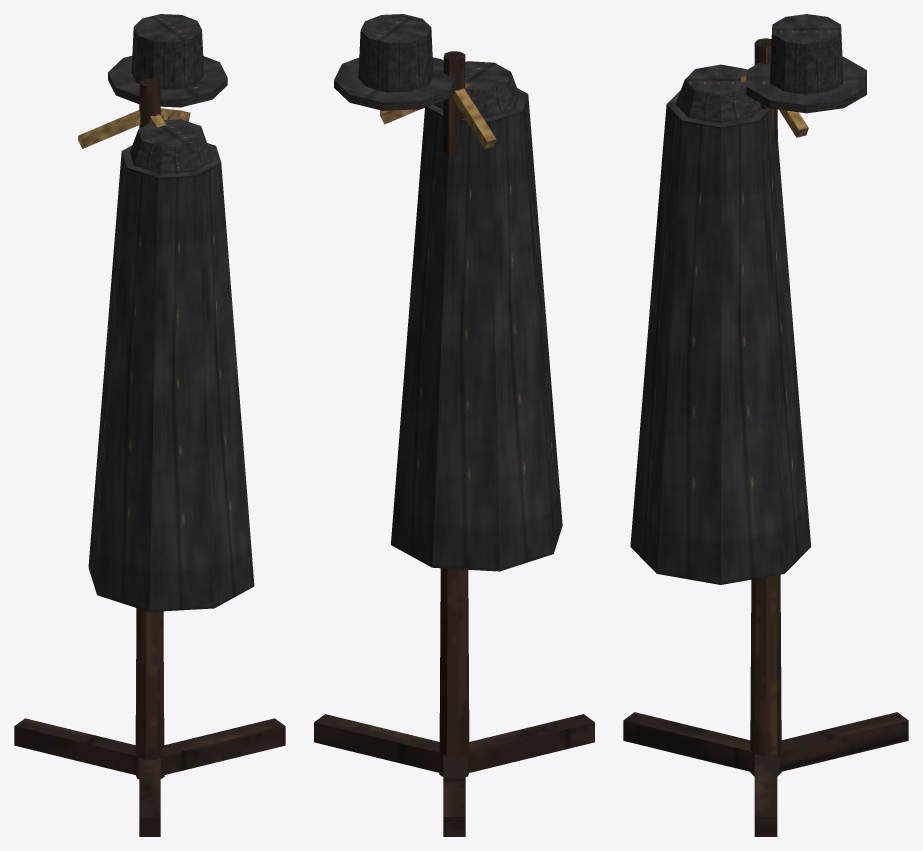
The model's file is Atmos_Coat_Rack.fbx.
3 renders of one model, left to right at view 1: azimuth 30°, elevation 25°; view 2: azimuth 150°, elevation 25°; view 3: azimuth 270°, elevation 25°, orthographic. The views are drawn at different scales.
Parts seen in each view (by area): view 1: Atmos_Coat_Rack_Clothes, Atmos_Coat_Rack; view 2: Atmos_Coat_Rack_Clothes, Atmos_Coat_Rack; view 3: Atmos_Coat_Rack_Clothes, Atmos_Coat_Rack.
Boxes of the visible parts, x1=… form: Atmos_Coat_Rack_Clothes: x1=88, y1=14, x2=254, y2=611; Atmos_Coat_Rack: x1=14, y1=78, x2=285, y2=836; Atmos_Coat_Rack_Clothes: x1=334, y1=14, x2=562, y2=571; Atmos_Coat_Rack: x1=314, y1=51, x2=594, y2=836; Atmos_Coat_Rack_Clothes: x1=630, y1=14, x2=866, y2=584; Atmos_Coat_Rack: x1=623, y1=38, x2=908, y2=836.
Bounding box in the file's own units: 55 × 186 × 63.12.
